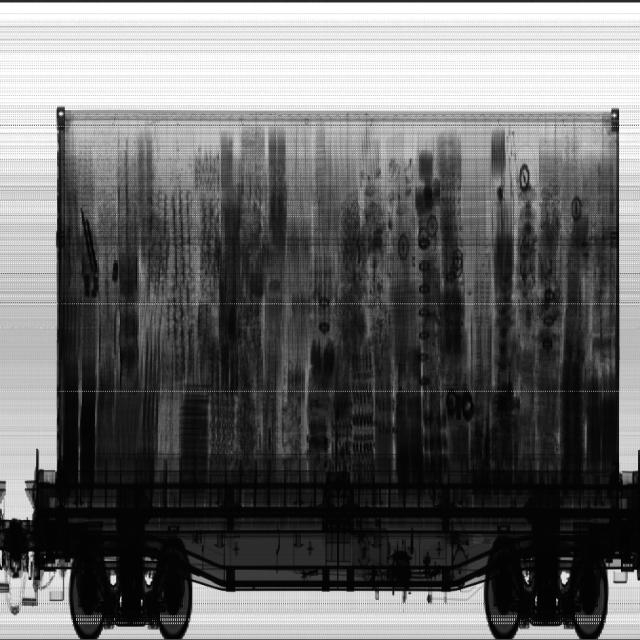auto parts: (47, 298, 131, 396), (556, 300, 639, 395), (499, 352, 563, 434)
tools: (152, 352, 165, 395)
